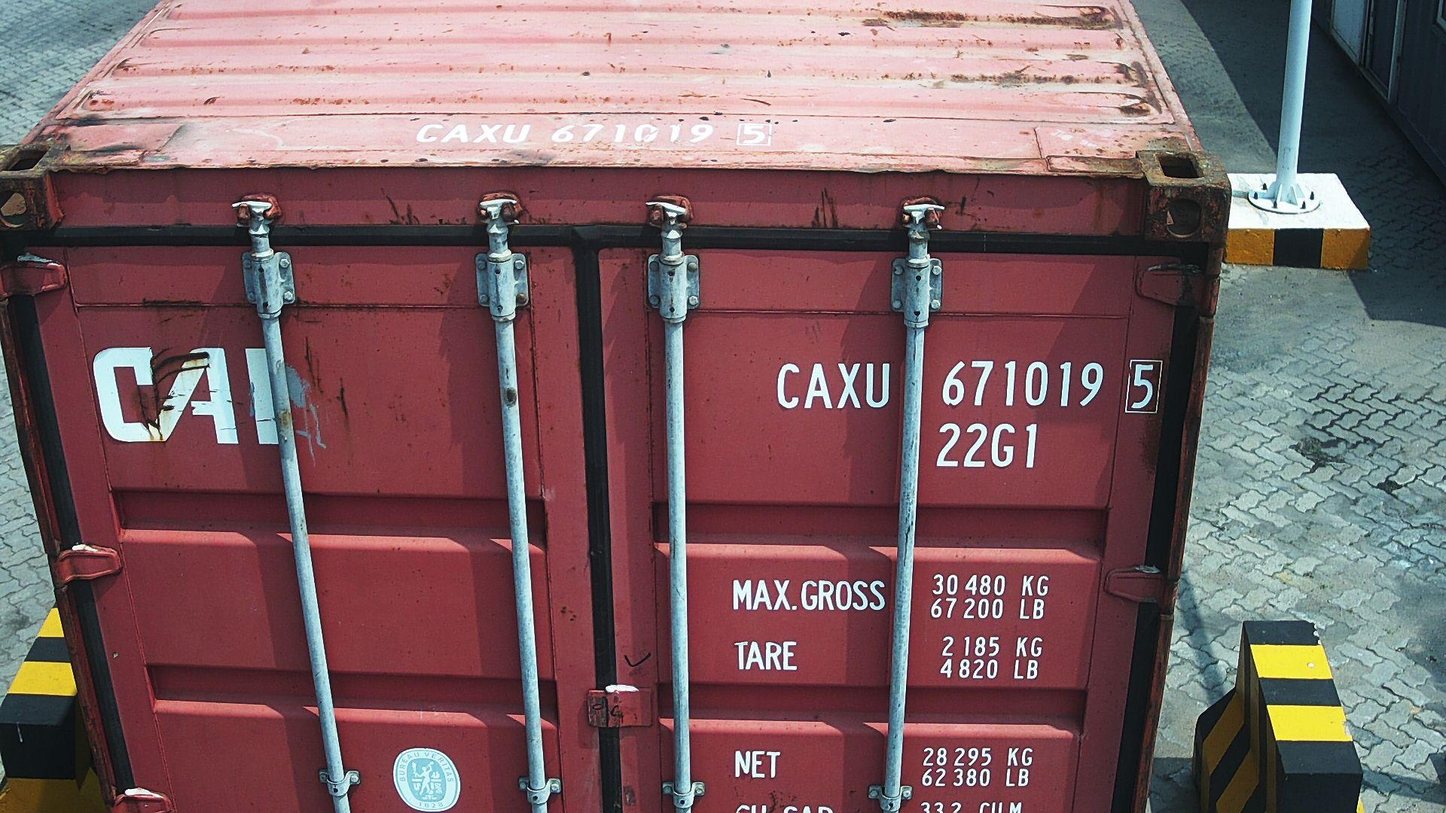container-numbers: (769, 355, 1166, 415), (406, 117, 787, 151), (932, 419, 1043, 471)
